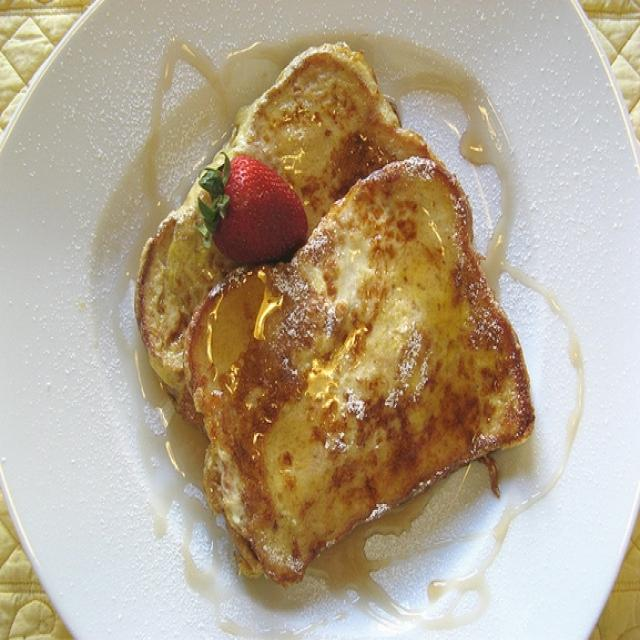面包点心: (1, 4, 636, 626)
